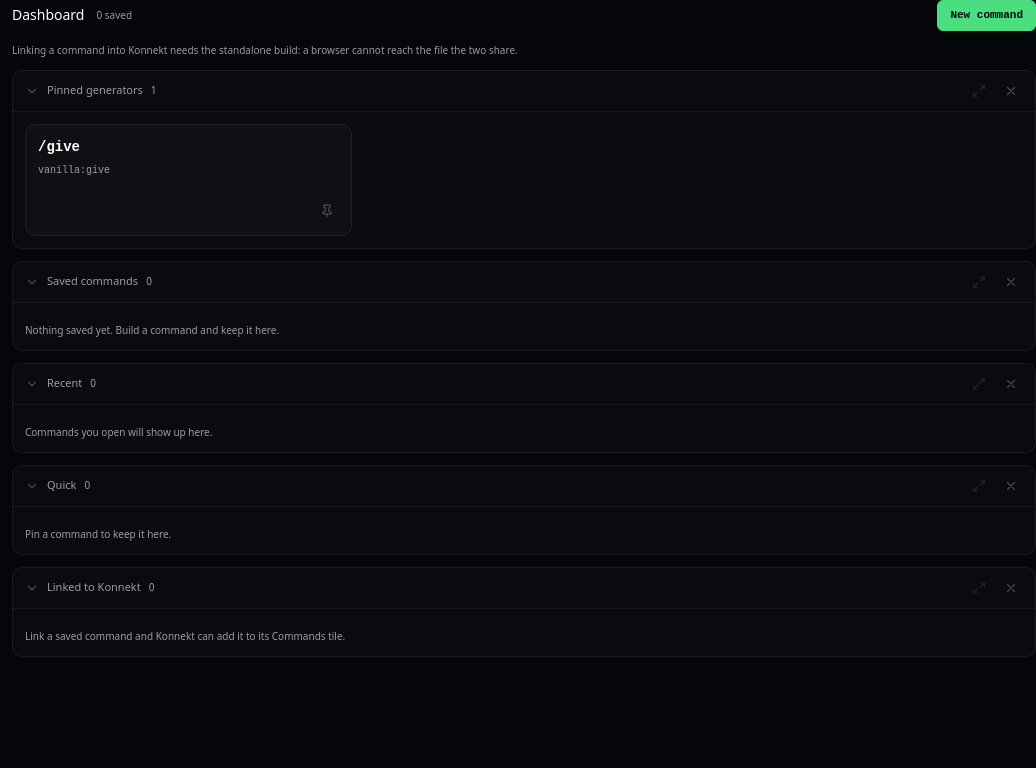
Test: unpinning a generator empties the panel and the storage behind it
The width and height of the screenshot is (1036, 768).
Step 1. Click the button named "Unpin /give" → x=327, y=210, box [315,198,339,222]
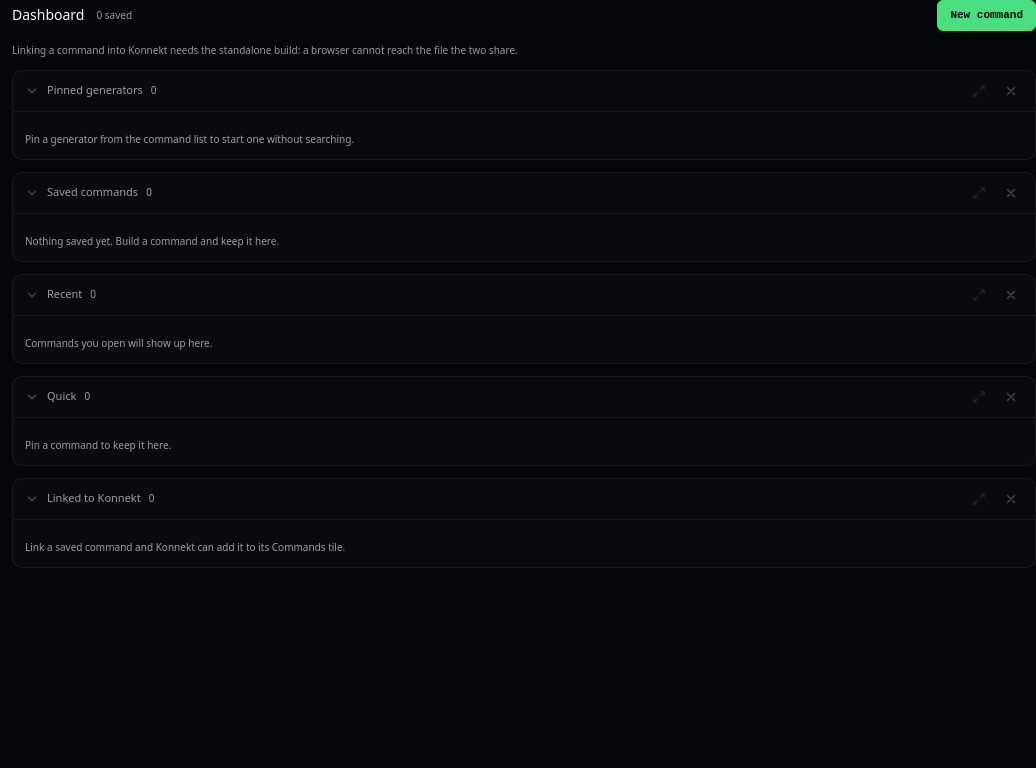
Expected: the list item "/give vanilla:give" is gone
